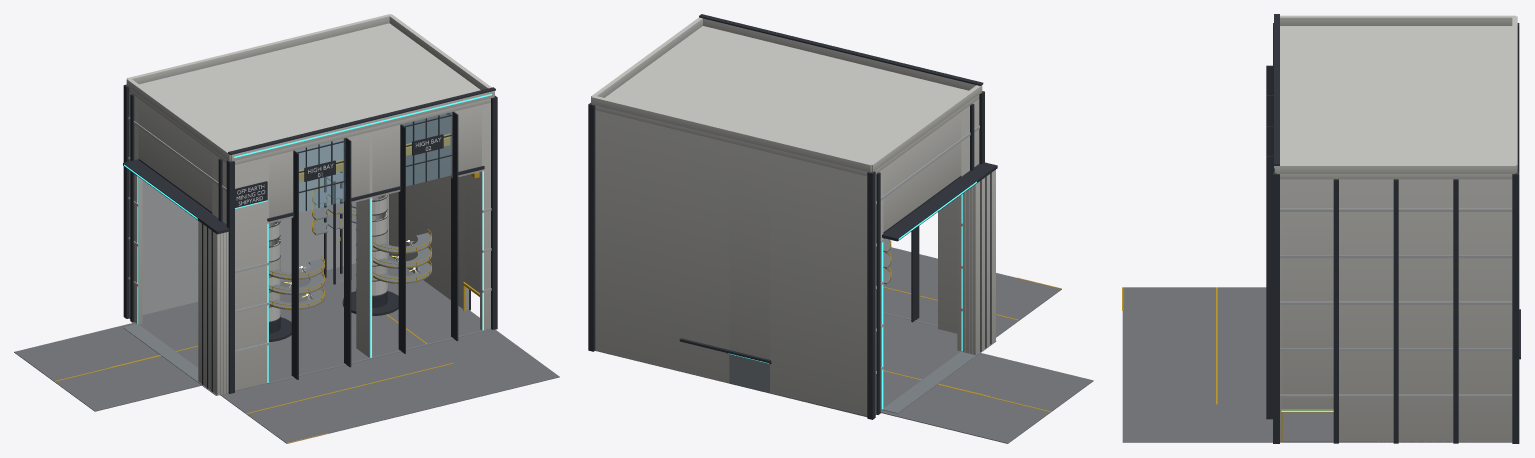
The model's file is shipyard_hb01_lv20_c_b3e5d7a3.glb.
3 views of the same model, side by side, from view 1: azimuth 30°, elevation 25°; view 2: azimuth 150°, elevation 25°; view 3: azimuth 270°, elevation 25° (orthographic). The views are drawn at different scales.
Visible parts, largest first — view 1: HB20_Static, HB20_DoorSide, HB20_DecksB, HB20_BuildStackB, HB20_DecksA, HB20_BuildStackA; view 2: HB20_Static, HB20_DoorSide; view 3: HB20_Static.
Boxes of the visible parts, x1=… form: HB20_Static: x1=14, y1=14, x2=559, y2=443; HB20_DoorSide: x1=198, y1=221, x2=228, y2=395; HB20_DecksB: x1=312, y1=181, x2=431, y2=283; HB20_BuildStackB: x1=356, y1=194, x2=387, y2=307; HB20_DecksA: x1=269, y1=255, x2=324, y2=309; HB20_BuildStackA: x1=269, y1=221, x2=280, y2=333; HB20_Static: x1=588, y1=14, x2=1093, y2=443; HB20_DoorSide: x1=962, y1=170, x2=995, y2=354; HB20_Static: x1=1122, y1=14, x2=1520, y2=443.
Size of the model in its own units: 121 by 72.05 by 93.35.
